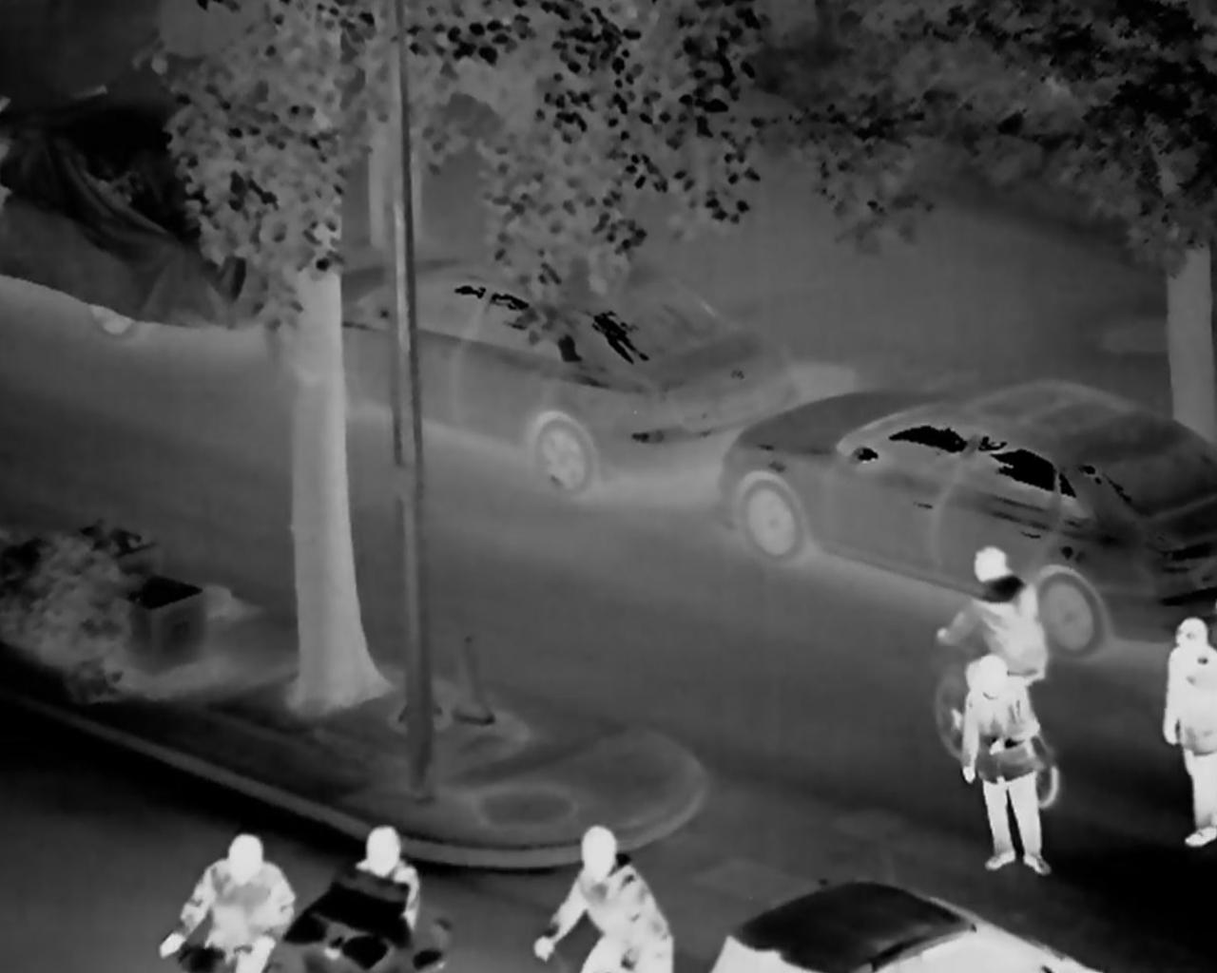person: (938, 659, 1064, 882), (522, 824, 684, 973), (156, 827, 298, 973), (313, 827, 445, 973), (951, 544, 1055, 699), (1158, 617, 1217, 857)
